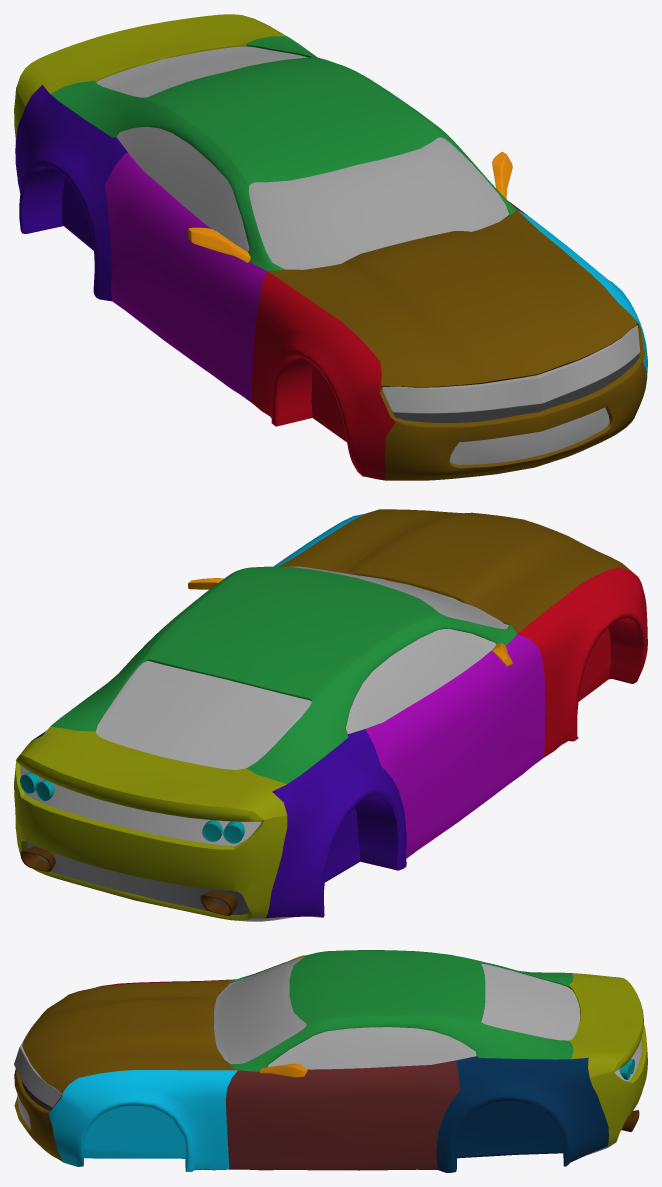
Rendered from Car_001_Body.fbx.
3 renders of one model, top to bottom at view 1: azimuth 30°, elevation 25°; view 2: azimuth 150°, elevation 25°; view 3: azimuth 270°, elevation 25°, orthographic. The views are drawn at different scales.
Parts seen in each view (by area): view 1: Front_Bar_001, Roof_001, Front_Right_Door_001, Wind_Shield_001, Front_Right_Fender_001, Rear_Right_Fender_001, Rear_bar_001, FrontLight_001, Side_WindowRight_001, Back_window_001, Front_mount_001, Grill_001 (+2 smaller); view 2: Roof_001, Rear_bar_001, Front_Bar_001, Front_Right_Door_001, Rear_Right_Fender_001, Back_window_001, Front_Right_Fender_001, Side_WindowRight_001, Backtoppanel_001, Rear_panel_001, Wind_Shield_001, Exhaust_Right_001 (+2 smaller); view 3: Door_Left_001, Roof_001, Front_Bar_001, Front_Left_Fender_001, Rear_Left_Fender_001, Rear_bar_001, Side_WindowLeft_001, Wind_Shield_001, Back_window_001, FrontLight_001, Mirror_001.
Part boxes in pixels (box(x1,y1,x2,y2)): Front_Bar_001: box(267, 210, 646, 480); Roof_001: box(50, 36, 516, 270); Front_Right_Door_001: box(105, 153, 266, 402); Wind_Shield_001: box(248, 137, 508, 269); Front_Right_Fender_001: box(251, 271, 395, 480); Rear_Right_Fender_001: box(15, 85, 128, 301); Rear_bar_001: box(14, 14, 286, 148); FrontLight_001: box(382, 325, 640, 413); Side_WindowRight_001: box(116, 126, 249, 251); Back_window_001: box(96, 46, 308, 97); Front_mount_001: box(449, 407, 609, 464); Grill_001: box(392, 353, 639, 422); Roof_001: box(50, 566, 516, 784); Rear_bar_001: box(14, 726, 287, 920); Front_Bar_001: box(278, 509, 639, 633); Front_Right_Door_001: box(365, 634, 545, 858); Rear_Right_Fender_001: box(266, 729, 406, 917); Back_window_001: box(95, 661, 311, 769); Front_Right_Fender_001: box(517, 567, 647, 757); Side_WindowRight_001: box(346, 628, 496, 733); Backtoppanel_001: box(20, 765, 261, 845); Rear_panel_001: box(27, 841, 249, 914); Wind_Shield_001: box(289, 566, 508, 628); Exhaust_Right_001: box(200, 891, 237, 915); Door_Left_001: box(226, 1060, 460, 1170); Roof_001: box(229, 950, 573, 1071); Front_Bar_001: box(14, 979, 237, 1162); Front_Left_Fender_001: box(48, 1070, 237, 1171); Rear_Left_Fender_001: box(436, 1056, 608, 1172); Rear_bar_001: box(568, 973, 647, 1145); Side_WindowLeft_001: box(268, 1027, 476, 1069); Wind_Shield_001: box(214, 956, 306, 1063); Back_window_001: box(481, 963, 580, 1040); FrontLight_001: box(14, 1018, 62, 1107); Mirror_001: box(260, 955, 307, 1077).
Size of the model in its own units: 190 by 105 by 435.
